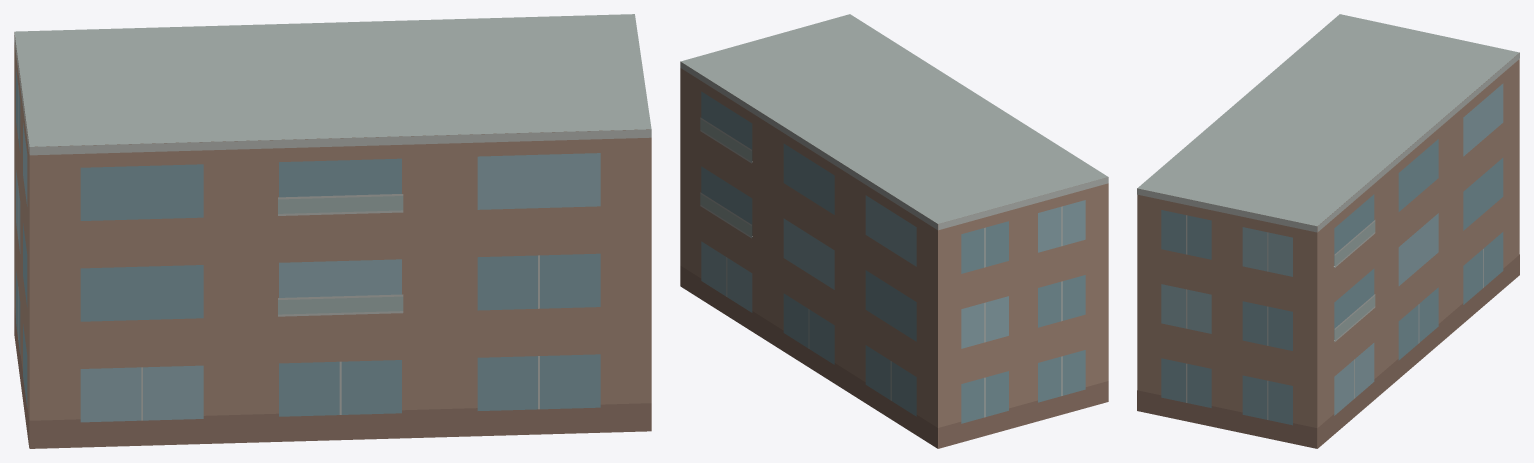
File: survey-upis-33033309.glb
3 renders of one model, left to right at view 1: azimuth 30°, elevation 25°; view 2: azimuth 150°, elevation 25°; view 3: azimuth 270°, elevation 25°, orthographic. The views are drawn at different scales.
Visible parts, largest first — view 1: survey-upis-33033309.tmp; view 2: survey-upis-33033309.tmp; view 3: survey-upis-33033309.tmp.
Part boxes in pixels (x1,y1,x2,y2): survey-upis-33033309.tmp: (14,14,651,448); survey-upis-33033309.tmp: (680,14,1108,448); survey-upis-33033309.tmp: (1137,14,1519,448).
Size of the model in its own units: 17.81 by 8.7 by 13.56.
